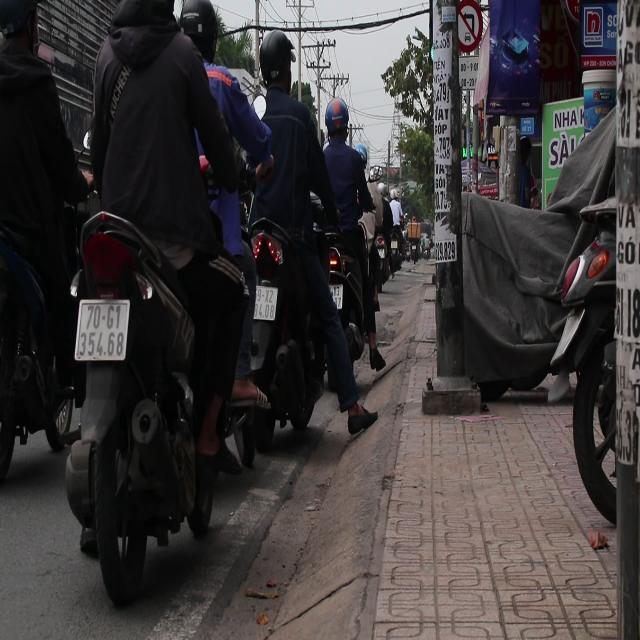motorbike: (58, 209, 208, 593), (248, 208, 368, 438), (0, 194, 73, 485), (322, 224, 382, 374)
